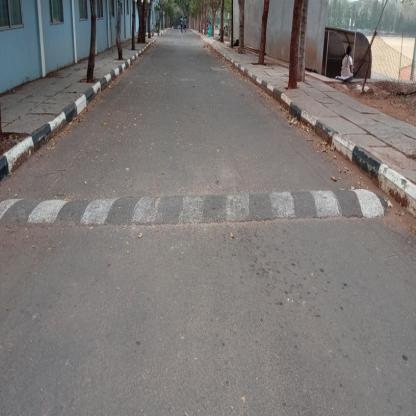speed-bumps: (0, 180, 399, 237)
